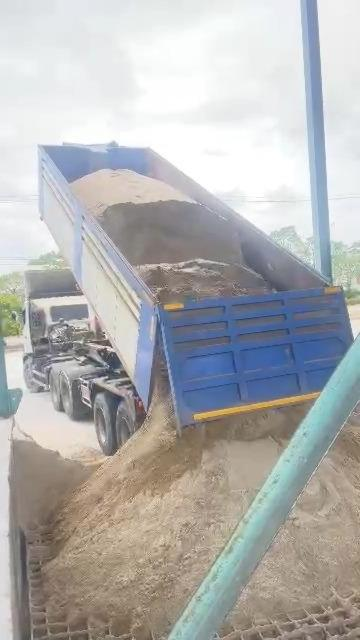sand: (45, 377, 306, 639), (72, 169, 271, 301), (233, 427, 360, 623), (12, 439, 106, 529)
